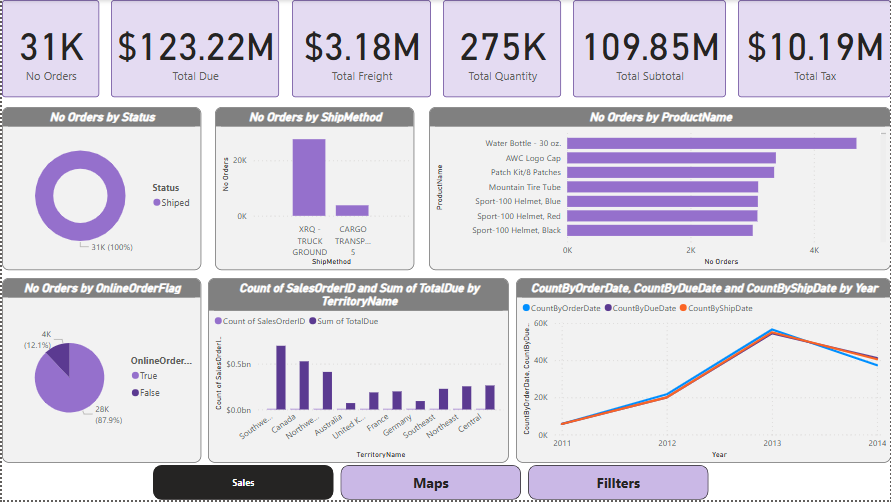

Layout of this report page (visuals, bound fields, positions):
{"tool":"powerbi","page":{"name":"Sales","canvas":[1280,720],"ordinal":0},"visuals":[{"type":"card","fields":{"Values":["OrderDetail.No Orders"]},"box":[0,0,140,140],"z":0},{"type":"card","fields":{"Values":["OrderDetail.Total Due"]},"box":[157.6,0,242,139.7],"z":1000},{"type":"card","fields":{"Values":["OrderDetail.Total Freight"]},"box":[417.1,0,200,139.7],"z":2000},{"type":"card","fields":{"Values":["OrderDetail.Total Quantity"]},"box":[634.7,0,170,140],"z":3000},{"type":"card","fields":{"Values":["OrderDetail.Total Subtotal"]},"box":[822.3,0,220,139.7],"z":4000},{"type":"card","fields":{"Values":["OrderDetail.Total Tax"]},"box":[1059.7,0,220.3,139.7],"z":5000},{"type":"donutChart","fields":{"Y":["OrderDetail.No Orders"],"Category":["Status.Status"]},"box":[0,154.1,286.6,234.7],"z":6000},{"type":"columnChart","fields":{"Y":["OrderDetail.No Orders"],"Category":["ShipMethod.ShipMethod"]},"box":[306.7,154.1,286.6,234.7],"z":7000},{"type":"clusteredBarChart","fields":{"Y":["OrderDetail.No Orders"],"Category":["Product.ProductName Hierarchy.ProductName","Product.ProductName Hierarchy.ProductCategoryName","Product.ProductName Hierarchy.ProductSubCategoryName"]},"box":[614.7,154.1,665.3,234.7],"z":8000},{"type":"pieChart","fields":{"Y":["OrderDetail.No Orders"],"Category":["OrderDetail.OnlineOrderFlag"]},"box":[0,400.3,286.6,266.4],"z":9000},{"type":"clusteredColumnChart","fields":{"Category":["Territory.TerritoryName"],"Y":["CountNonNull(OrderDetail.SalesOrderID)","Sum(OrderDetail.TotalDue)"]},"box":[296.6,400.3,433.4,266.4],"z":10000},{"type":"lineChart","fields":{"Category":["Date.Date.Variation.Date Hierarchy.Year","Date.Date.Variation.Date Hierarchy.Quarter","Date.Date.Variation.Date Hierarchy.Month","Date.Date.Variation.Date Hierarchy.Day"],"Y":["OrderDetail.CountByOrderDate","OrderDetail.CountByDueDate","OrderDetail.CountByShipDate"]},"box":[740.2,400.3,540,266.4],"z":11000},{"type":"pageNavigator","box":[217.4,669.6,800.6,50.4],"z":12000}]}

Visuals, with their boxes in screenshot pixels (x1, y1, x2, y2), scaled from the page's 1280x720 canvas onto the 891x502 screenshot:
card - OrderDetail.No Orders: box=[0, 0, 97, 98]
card - OrderDetail.Total Due: box=[110, 0, 278, 97]
card - OrderDetail.Total Freight: box=[290, 0, 430, 97]
card - OrderDetail.Total Quantity: box=[442, 0, 560, 98]
card - OrderDetail.Total Subtotal: box=[572, 0, 726, 97]
card - OrderDetail.Total Tax: box=[738, 0, 890, 97]
donutChart - OrderDetail.No Orders x Status.Status: box=[0, 107, 200, 271]
columnChart - OrderDetail.No Orders x ShipMethod.ShipMethod: box=[213, 107, 413, 271]
clusteredBarChart - OrderDetail.No Orders x Product.ProductName Hierarchy.ProductName: box=[428, 107, 890, 271]
pieChart - OrderDetail.No Orders x OrderDetail.OnlineOrderFlag: box=[0, 279, 200, 465]
clusteredColumnChart - Territory.TerritoryName x CountNonNull(OrderDetail.SalesOrderID): box=[206, 279, 508, 465]
lineChart - Date.Date.Variation.Date Hierarchy.Year x Date.Date.Variation.Date Hierarchy.Quarter: box=[515, 279, 890, 465]
pageNavigator: box=[151, 467, 709, 501]
